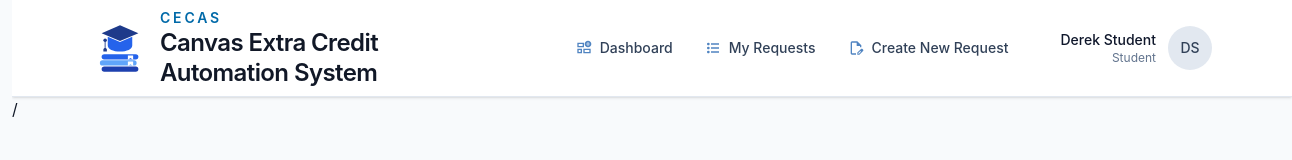
it: Navbar › escape closes the desktop account menu
Click the button with aria-label "open account options for Derek Student". click: (1190, 48)
box: [1168,26,1212,70]
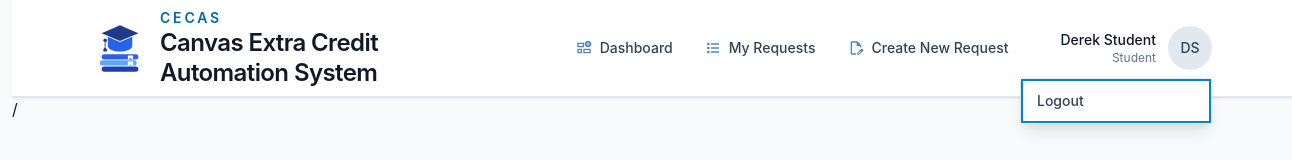
Now the button "Logout" is shown, box [1021,79,1211,123]
Press Escape
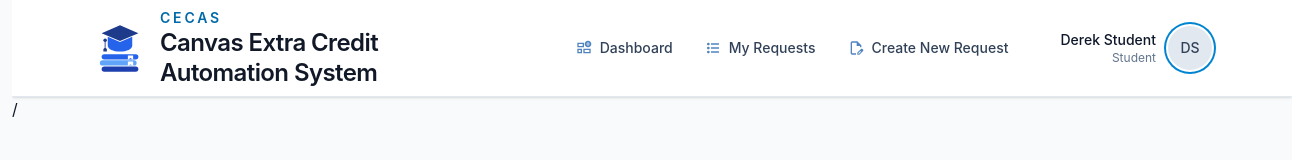
Now the button "Logout" is gone
Now the button with aria-label "open account options for Derek Student" is collapsed, box [1168,26,1212,70]
